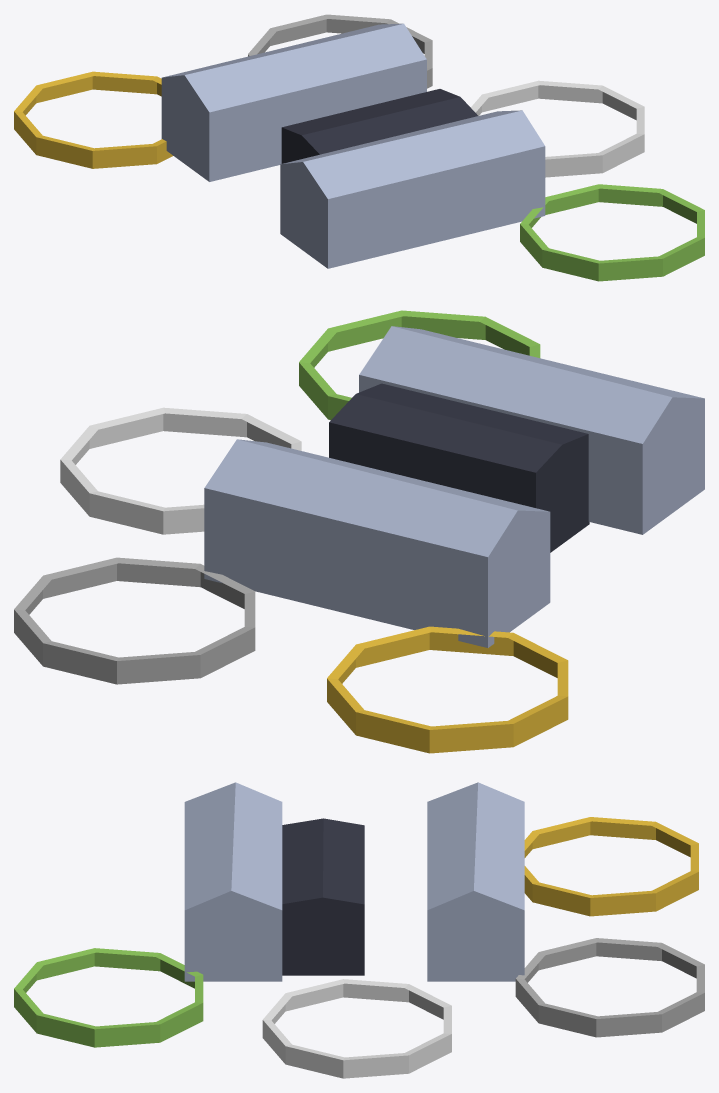
The model's file is barracks.glb.
3 renders of one model, top to bottom at view 1: azimuth 30°, elevation 25°; view 2: azimuth 150°, elevation 25°; view 3: azimuth 270°, elevation 25°, orthographic. The views are drawn at different scales.
Parts seen in each view (by area): view 1: Cube.025, Cube.027, Cylinder.005, Cube.026, Cylinder.004, Cylinder.006, Cylinder.007; view 2: Cube.027, Cube.025, Cube.026, Cylinder.007, Cylinder.004, Cylinder.006, Cylinder.005; view 3: Cube.025, Cube.027, Cube.026, Cylinder.006, Cylinder.007, Cylinder.005, Cylinder.004.
Part boxes in pixels (x1=…): Cube.025: x1=280, y1=110, x2=545, y2=268; Cube.027: x1=161, y1=23, x2=426, y2=181; Cylinder.005: x1=520, y1=184, x2=704, y2=281; Cube.026: x1=281, y1=89, x2=477, y2=163; Cylinder.004: x1=14, y1=71, x2=172, y2=168; Cylinder.006: x1=471, y1=80, x2=644, y2=177; Cylinder.007: x1=248, y1=14, x2=432, y2=88; Cube.027: x1=204, y1=439, x2=550, y2=647; Cube.025: x1=359, y1=326, x2=704, y2=534; Cube.026: x1=329, y1=383, x2=589, y2=552; Cylinder.007: x1=14, y1=557, x2=255, y2=684; Cylinder.004: x1=327, y1=626, x2=568, y2=753; Cylinder.006: x1=60, y1=407, x2=301, y2=534; Cylinder.005: x1=299, y1=310, x2=540, y2=419; Cube.025: x1=184, y1=782, x2=282, y2=981; Cube.027: x1=427, y1=782, x2=524, y2=981; Cube.026: x1=282, y1=818, x2=364, y2=975; Cylinder.006: x1=262, y1=979, x2=451, y2=1078; Cylinder.007: x1=515, y1=938, x2=704, y2=1037; Cylinder.005: x1=14, y1=948, x2=203, y2=1047; Cylinder.004: x1=524, y1=817, x2=698, y2=916.
Bounding box in the file's own units: 49.29 × 9.67 × 59.13.
